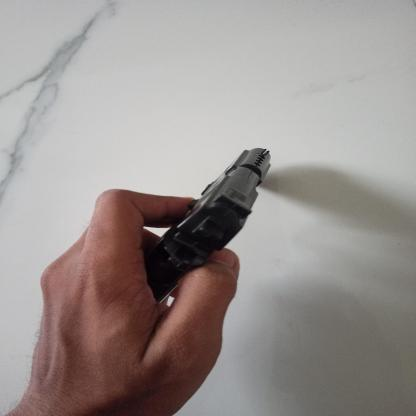handgun: (145, 146, 271, 302)
